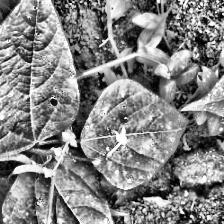Bean Rust: (82, 76, 182, 181), (0, 0, 68, 154), (8, 173, 120, 224), (186, 26, 224, 143)
